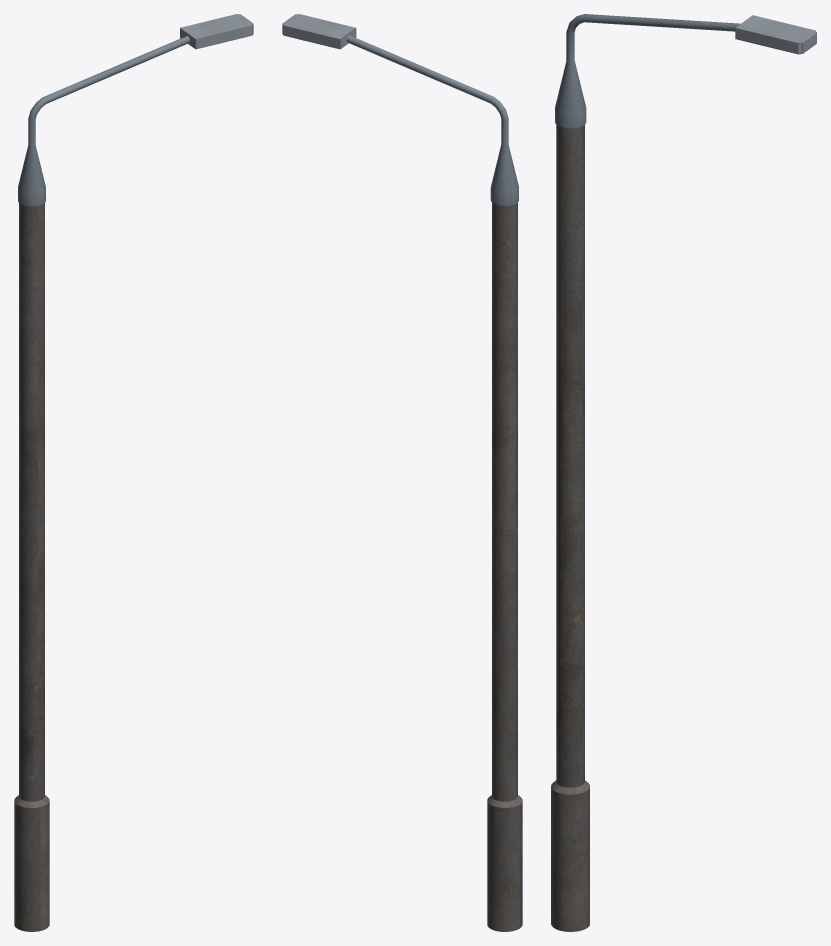
Rendered from street_lamp.glb.
The picture shows the model from 3 angles, left to right: view 1: azimuth 30°, elevation 25°; view 2: azimuth 150°, elevation 25°; view 3: azimuth 330°, elevation 25°; orthographic projection. The views are drawn at different scales.
Visible parts, largest first — view 1: Pillar_0, Cap_1, Lamp_2; view 2: Pillar_0, Cap_1, Lamp_2; view 3: Pillar_0, Cap_1, Lamp_2.
Part boxes in pixels (x1,y1,x2,y2): Pillar_0: [14, 203, 49, 931]; Cap_1: [18, 35, 189, 206]; Lamp_2: [180, 14, 253, 49]; Pillar_0: [487, 202, 522, 931]; Cap_1: [346, 35, 518, 205]; Lamp_2: [282, 14, 356, 49]; Pillar_0: [551, 125, 589, 931]; Cap_1: [555, 14, 740, 128]; Lamp_2: [735, 15, 816, 54].
Bounding box in the file's own units: 3.77 × 13.3 × 0.5.
Materials: 3 (3 with a texture image).
